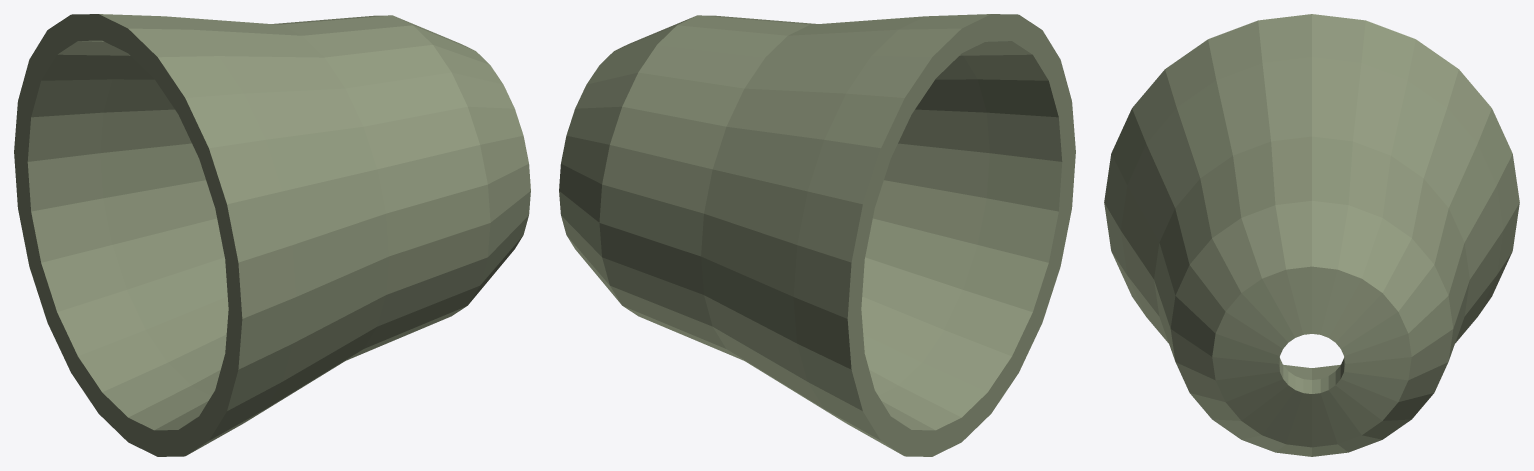
File: bell_visual.glb
The picture shows the model from 3 angles, left to right: view 1: azimuth 30°, elevation 25°; view 2: azimuth 150°, elevation 25°; view 3: azimuth 270°, elevation 25°; orthographic projection. The views are drawn at different scales.
Parts seen in each view (by area): view 1: bell; view 2: bell; view 3: bell.
Boxes of the visible parts, left/top/right/bottom form: bell: left=14, top=14, right=530, bottom=456; bell: left=559, top=14, right=1075, bottom=456; bell: left=1104, top=14, right=1519, bottom=456.
Size of the model in its own units: 0.46 by 0.5 by 0.5.
